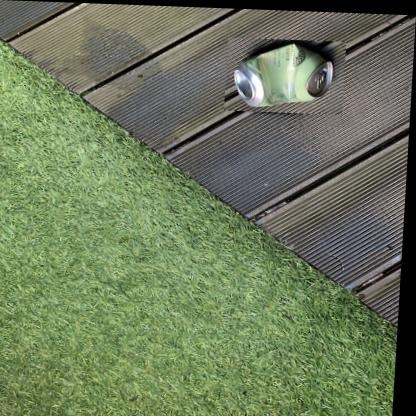trash: (234, 43, 332, 106)
